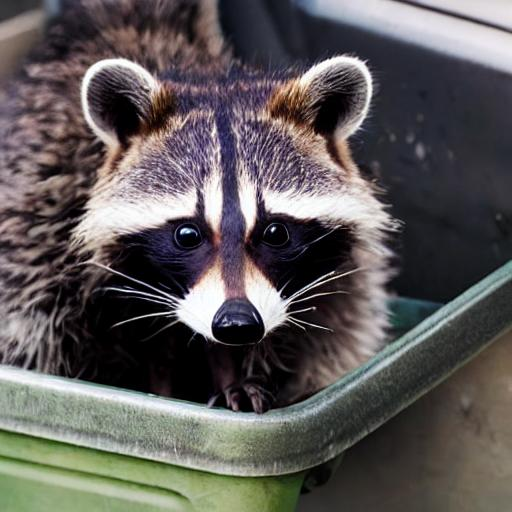raccoon: (0, 0, 418, 422)
